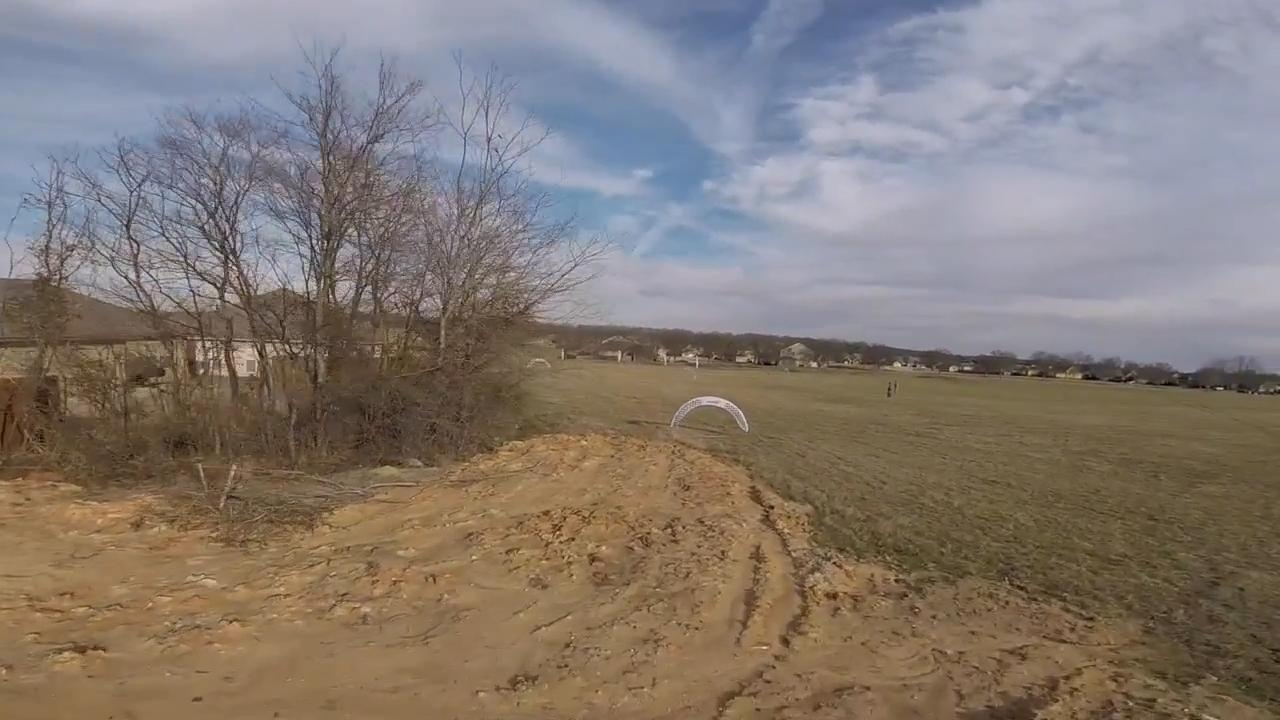gate: (672, 394, 752, 441)
